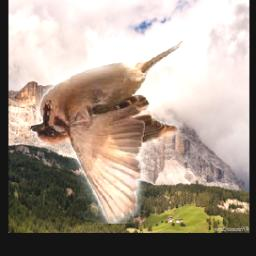Sparrow: (30, 35, 189, 224)
